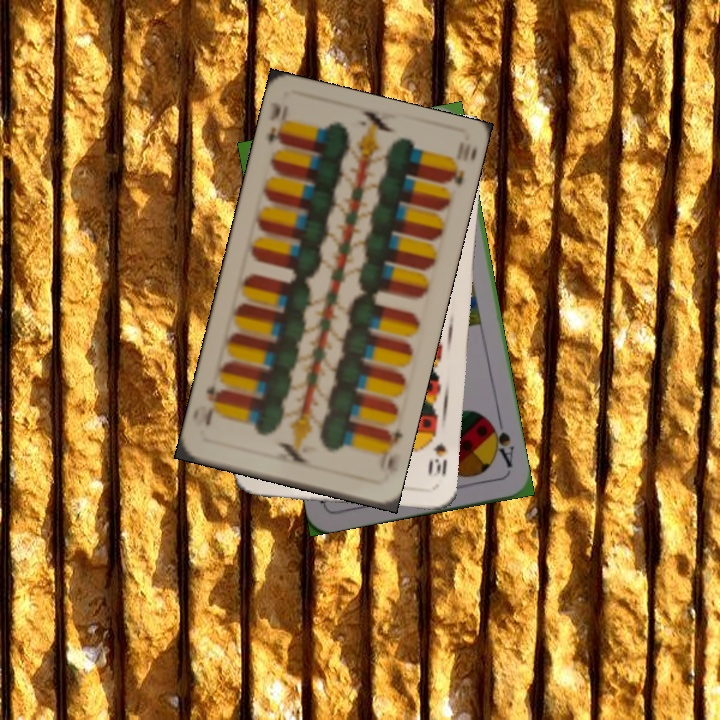E10: (374, 425, 406, 483), (264, 98, 290, 147)
S10: (424, 438, 449, 479)
SA: (485, 414, 517, 470)
